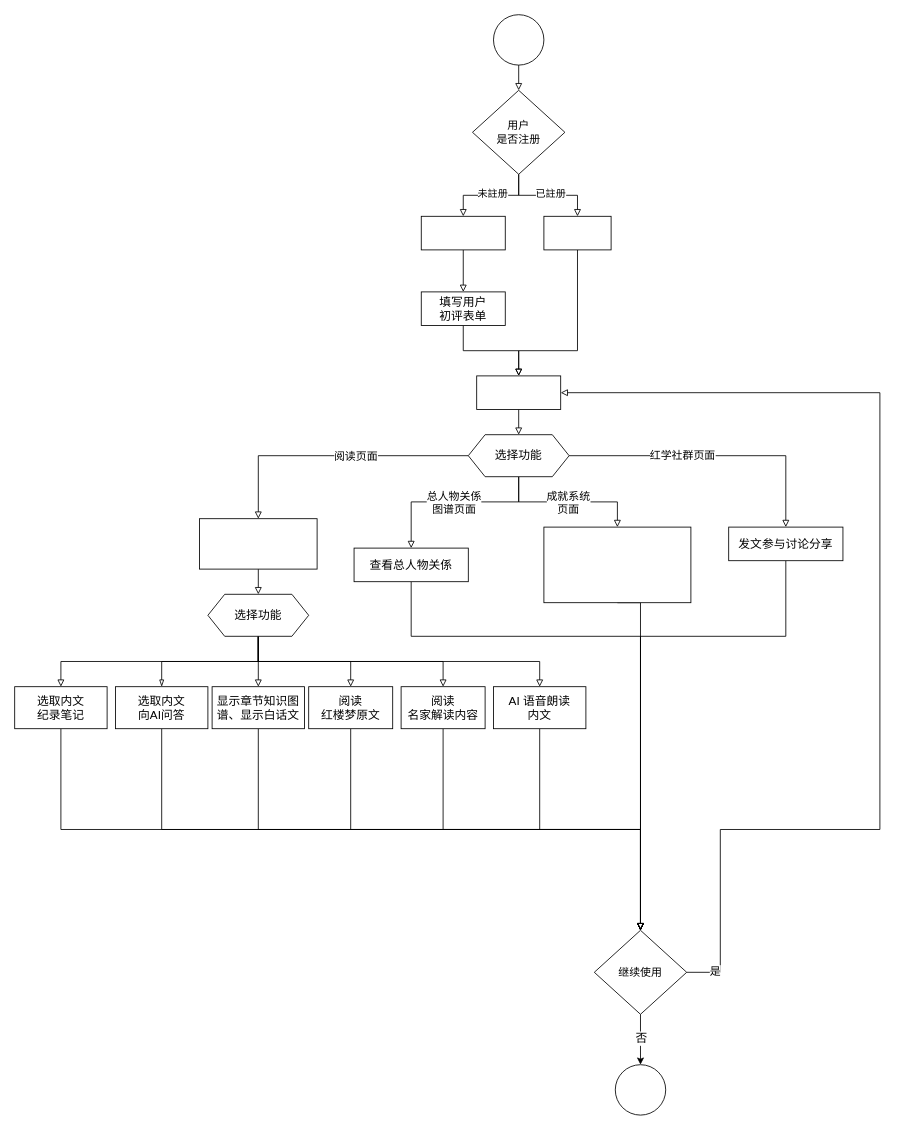
Some shapes in this 901 by 1130 pixel diagram are drawn without their labels. Each missing label, with the centre of its shape:
开始: pixel 518 39
登入: pixel 577 232
结束: pixel 640 1089
註册新帐号: pixel 462 232
选择学习挑战赛、 设定每日学习目标时间、 查看达成与未达成就: pixel 617 564
阅读原文 与名家解读内容: pixel 258 543
首页: pixel 518 392
